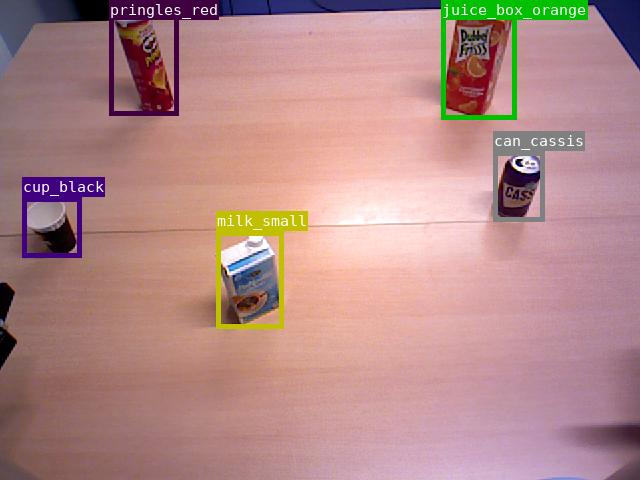can_cassis: (493, 151, 544, 221)
cup_black: (22, 197, 81, 257)
juice_box_orange: (441, 0, 516, 119)
milk_small: (216, 231, 283, 328)
pringles_red: (109, 0, 178, 115)
